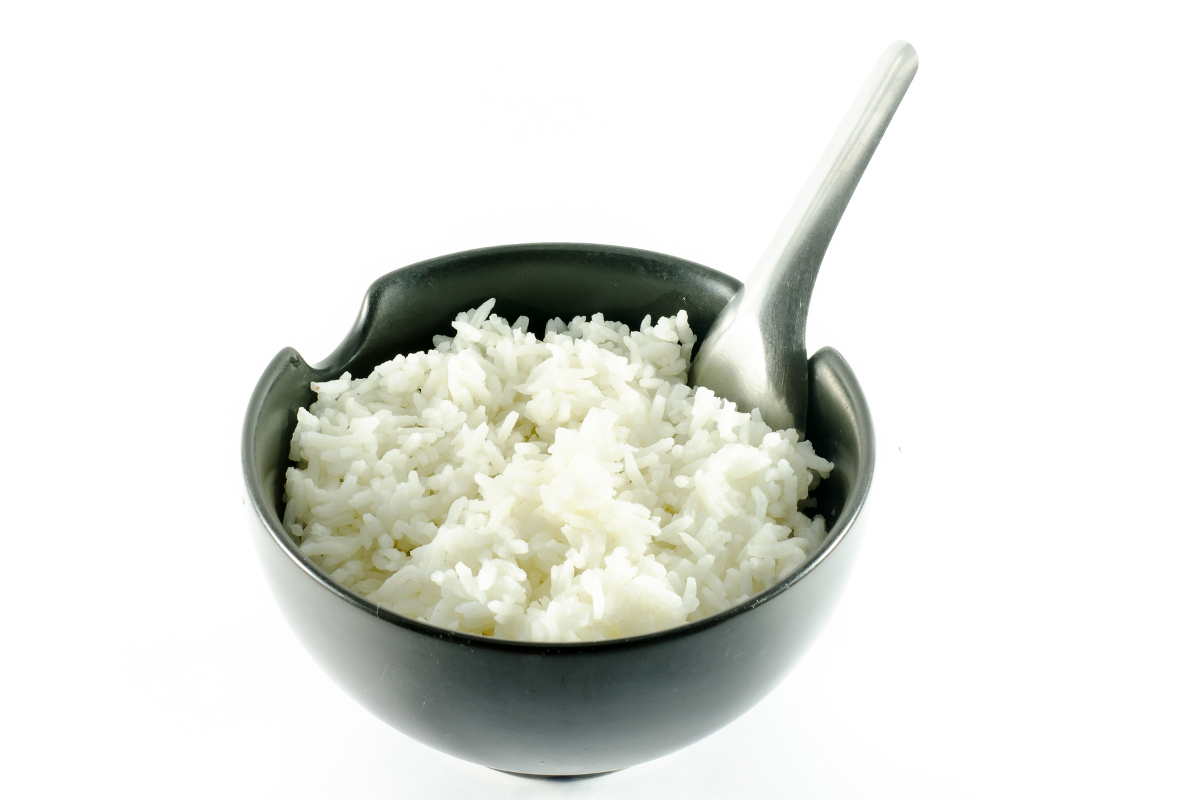plain rice: (325, 353, 785, 607)
